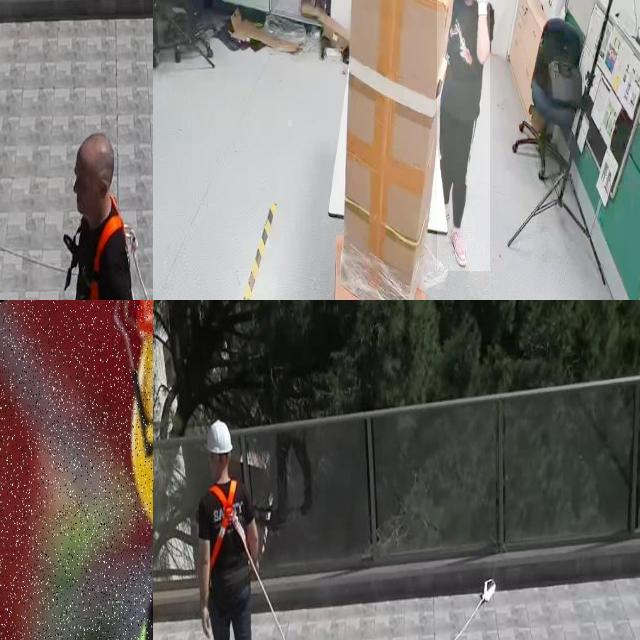Ear-protection: (130, 329, 153, 543)
Harness: (91, 213, 151, 300), (243, 539, 288, 640), (454, 579, 497, 640), (209, 480, 237, 570)
hand_glove: (476, 0, 491, 18)
person: (437, 0, 490, 272)
shoes: (449, 222, 467, 265)
